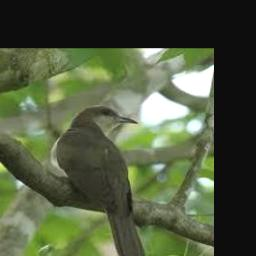Cuckoo: (50, 105, 149, 256)
